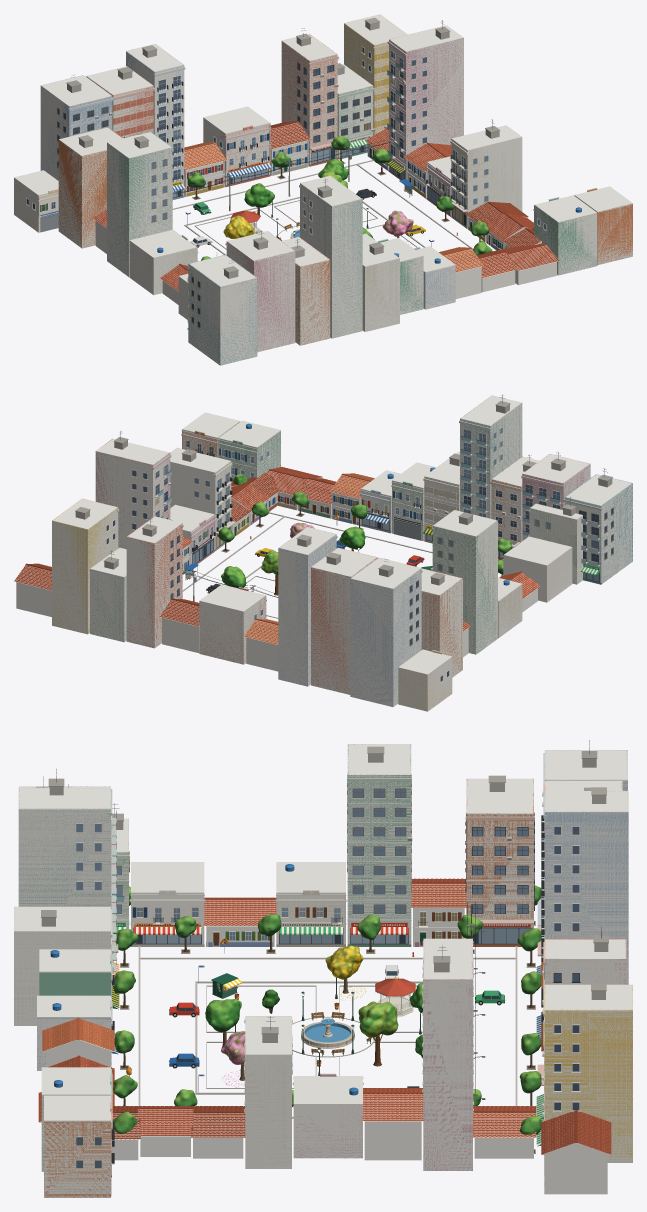
File: praca.glb
3 renders of one model, top to bottom at view 1: azimuth 30°, elevation 25°; view 2: azimuth 150°, elevation 25°; view 3: azimuth 270°, elevation 25°, orthographic. The views are drawn at different scales.
Visible parts, largest first — view 1: colisao, predios_sul, predios_norte, predios_leste, predios_oeste, vidros, moveis, copas, copas_rua; view 2: colisao, predios_norte, predios_sul, predios_oeste, vidros, predios_leste, moveis, copas_rua, copas; view 3: colisao, predios_oeste, predios_norte, predios_sul, predios_leste, vidros, moveis, copas_rua, copas, chafariz, copa_ninho, troncos.
Boxes of the visible parts, box(x1,y1,x2,y2) form: colisao: box(14, 14, 632, 365); predios_sul: box(187, 175, 632, 365); predios_norte: box(14, 14, 401, 232); predios_leste: box(365, 20, 541, 250); predios_oeste: box(58, 127, 218, 316); vidros: box(26, 47, 545, 327); moveis: box(172, 146, 472, 254); copas: box(223, 158, 413, 239); copas_rua: box(187, 135, 533, 260); colisao: box(14, 395, 632, 711); predios_norte: box(14, 498, 453, 711); predios_sul: box(181, 394, 632, 584); predios_oeste: box(421, 497, 582, 673); vidros: box(106, 428, 613, 681); predios_leste: box(95, 431, 278, 574); moveis: box(182, 512, 503, 621); copas_rua: box(217, 474, 512, 574); copas: box(221, 522, 365, 588); colisao: box(14, 744, 632, 1197); predios_oeste: box(111, 744, 534, 946); predios_norte: box(536, 740, 632, 1193); predios_sul: box(14, 769, 119, 1197); predios_leste: box(112, 938, 536, 1170); vidros: box(76, 789, 579, 1168); moveis: box(120, 921, 535, 1153); copas_rua: box(112, 885, 541, 1134); copas: box(205, 945, 422, 1064); chafariz: box(301, 1018, 354, 1048); copa_ninho: box(358, 1001, 398, 1037); troncos: box(123, 936, 532, 1106).
Size of the model in its own units: 99.3 by 33.4 by 87.05.
